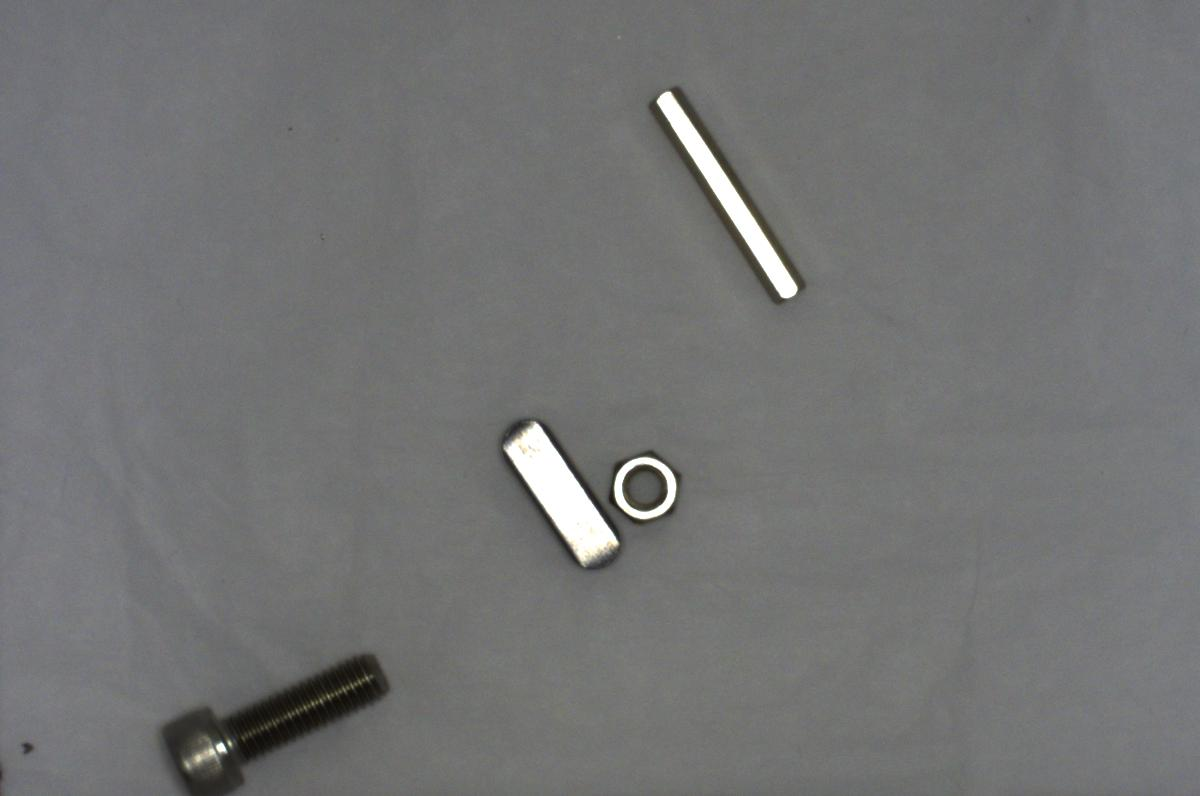Double hexagonal column: (646, 81, 808, 308)
Hexagon nut: (605, 442, 681, 527)
Hexagon screw: (145, 640, 398, 795)
Keybar: (493, 410, 619, 574)
